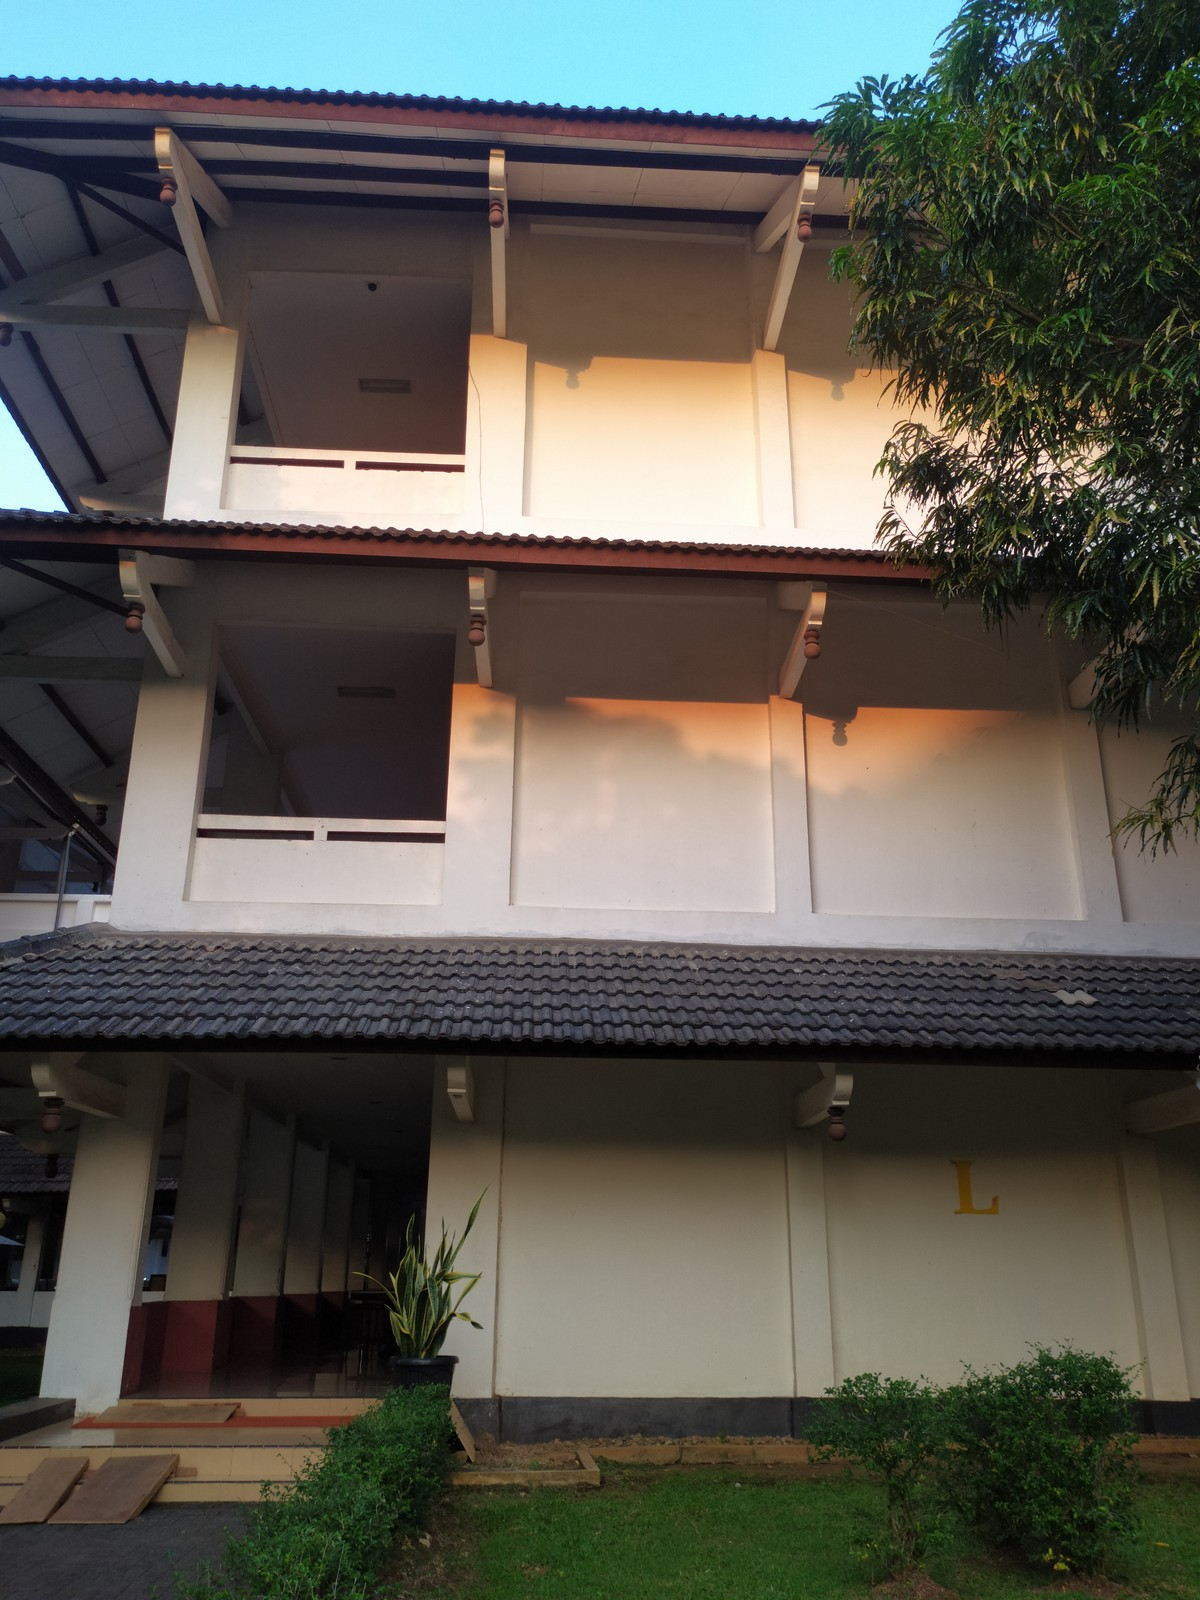concrete beam: (49, 300, 205, 343), (34, 648, 170, 695)
concrete column: (44, 1075, 160, 1414), (106, 617, 234, 908), (163, 1077, 258, 1377), (161, 254, 248, 519)
